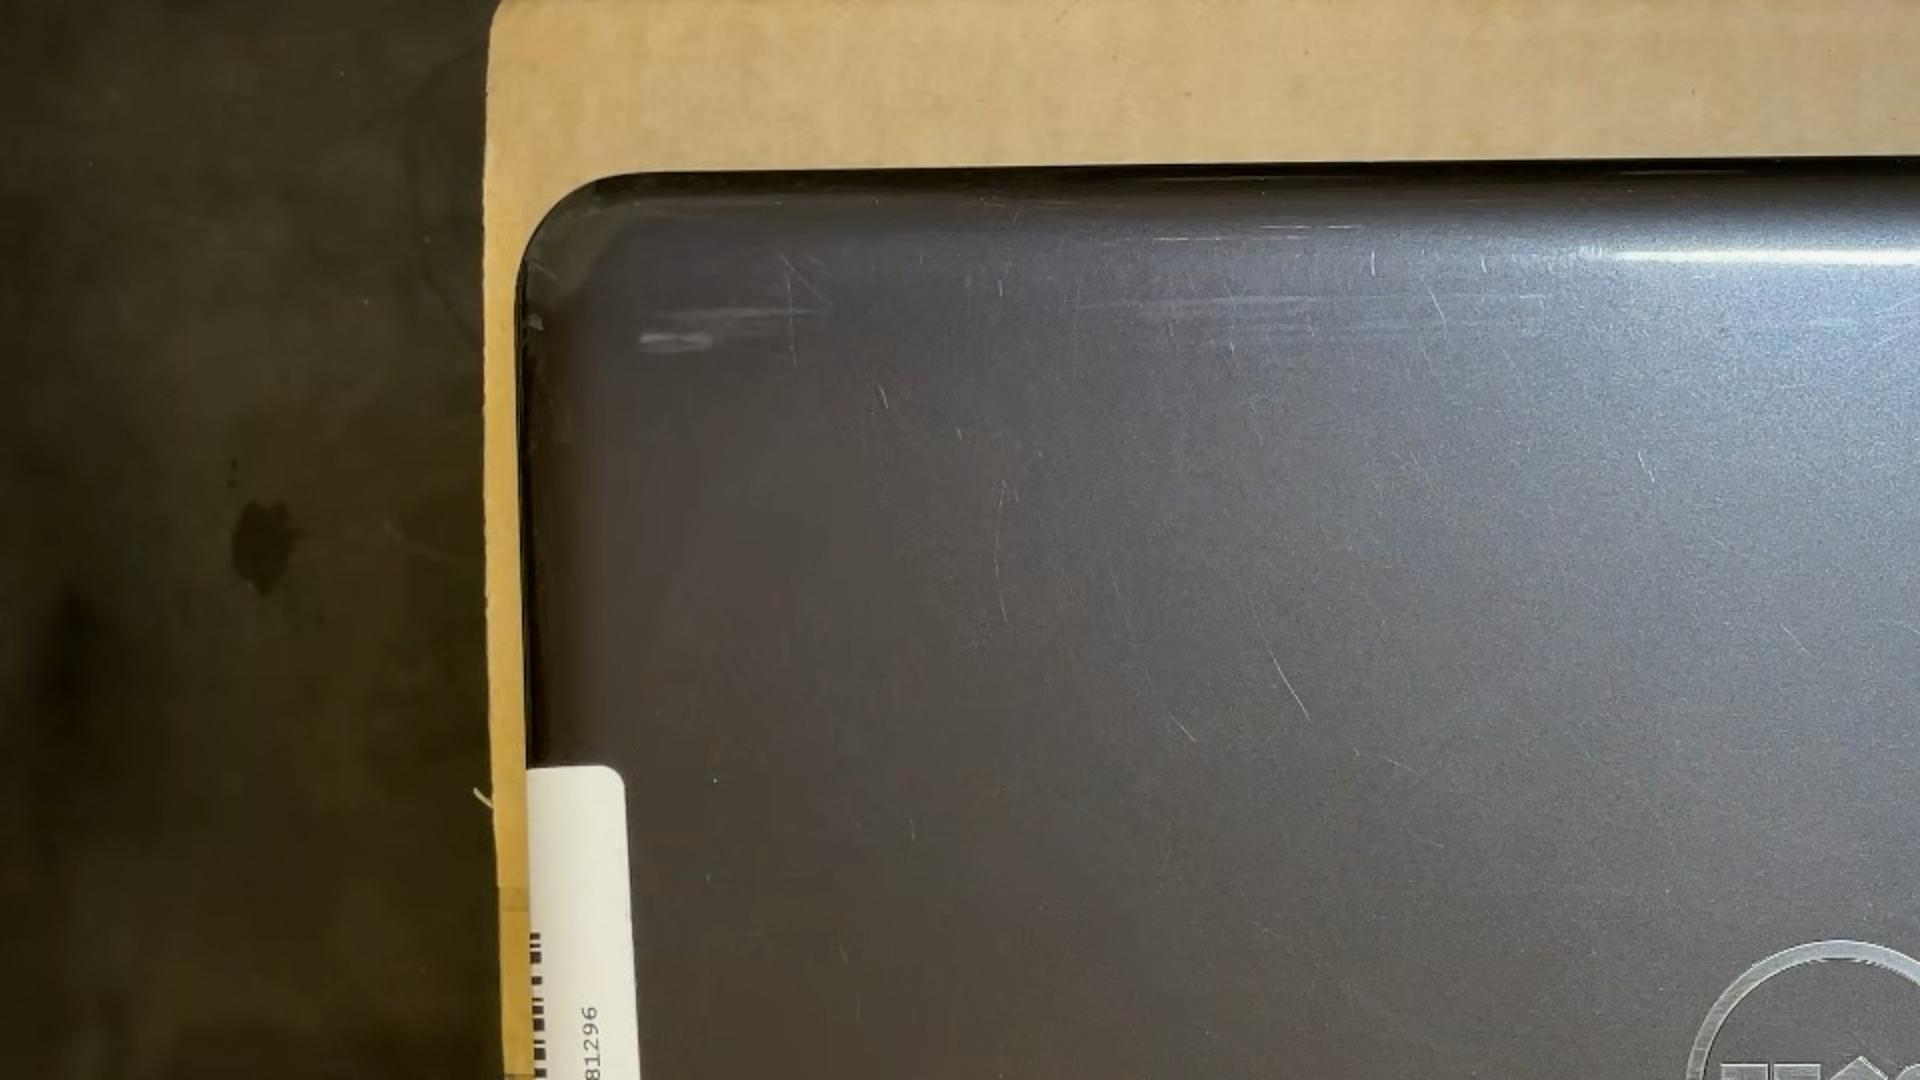chip: (711, 775, 721, 785), (1259, 190, 1267, 197)
scratches: (1067, 289, 1549, 312), (1247, 594, 1313, 723), (1110, 573, 1156, 691), (779, 253, 835, 307), (992, 477, 1011, 624), (1847, 330, 1904, 377), (1152, 172, 1361, 182), (1418, 276, 1448, 343), (783, 272, 799, 367), (1220, 278, 1238, 357), (1777, 623, 1815, 659), (1153, 234, 1311, 242), (1873, 291, 1920, 316), (1167, 710, 1198, 743), (1074, 277, 1083, 380), (1636, 451, 1655, 484), (1385, 756, 1416, 775), (875, 383, 890, 410), (1899, 621, 1920, 638), (1777, 381, 1809, 391), (1258, 224, 1313, 229), (953, 424, 965, 442), (908, 817, 916, 842), (996, 277, 1004, 297), (1327, 224, 1358, 229), (1481, 255, 1488, 274), (1371, 251, 1375, 278)
